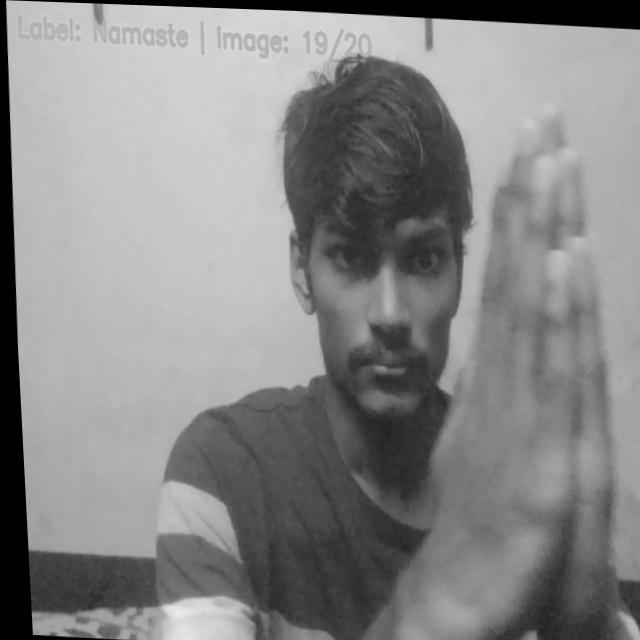Namaste: (419, 64, 632, 640)
